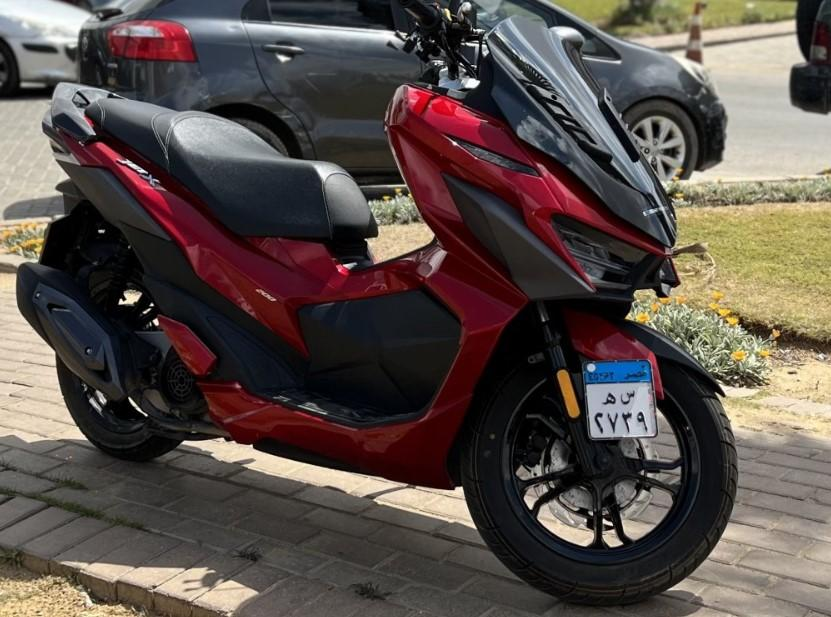License Plate: (585, 362, 660, 440)
